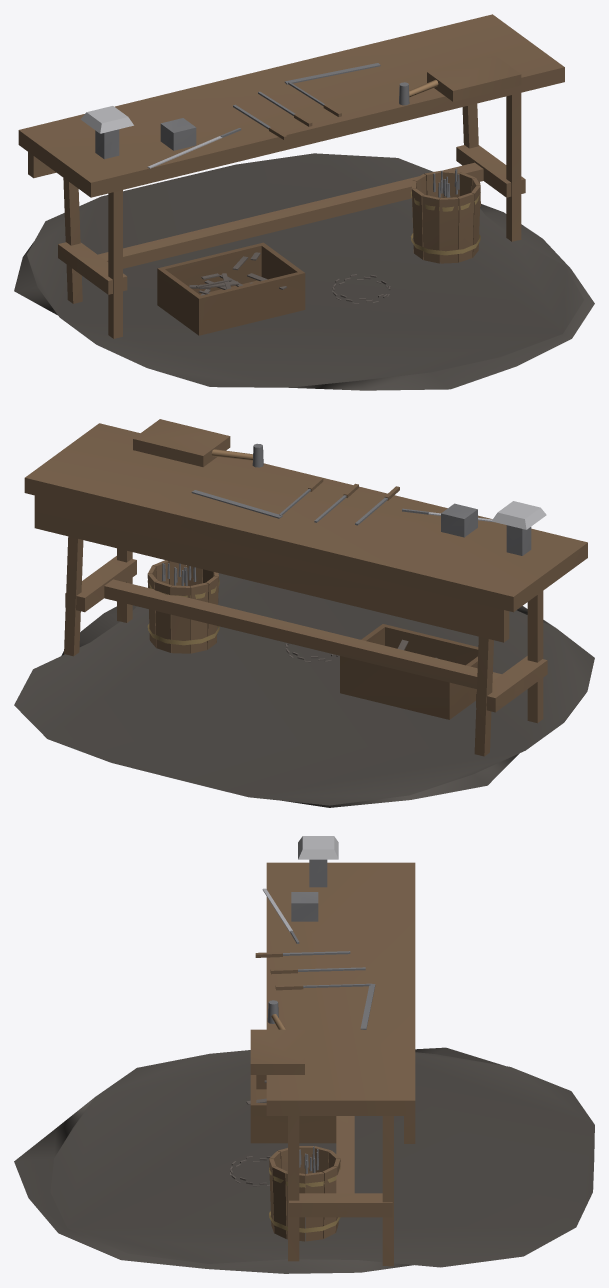
File: kalev_smithy_finishing_bench.glb
The picture shows the model from 3 angles, top to bottom: view 1: azimuth 30°, elevation 25°; view 2: azimuth 150°, elevation 25°; view 3: azimuth 270°, elevation 25°; orthographic projection. The views are drawn at different scales.
Parts seen in each view (by area): view 1: kalev_smithy_finishing_bench_ash, kalev_smithy_finishing_bench_oak, kalev_smithy_finishing_bench_iron, kalev_smithy_finishing_bench_iron_bright, kalev_smithy_finishing_bench_straw; view 2: kalev_smithy_finishing_bench_oak, kalev_smithy_finishing_bench_ash, kalev_smithy_finishing_bench_iron, kalev_smithy_finishing_bench_iron_bright; view 3: kalev_smithy_finishing_bench_ash, kalev_smithy_finishing_bench_oak, kalev_smithy_finishing_bench_iron, kalev_smithy_finishing_bench_iron_bright.
Boxes of the visible parts, left/top/right/bottom form: kalev_smithy_finishing_bench_ash: left=14, top=153, right=594, bottom=390; kalev_smithy_finishing_bench_oak: left=18, top=14, right=564, bottom=338; kalev_smithy_finishing_bench_iron: left=95, top=63, right=459, bottom=303; kalev_smithy_finishing_bench_iron_bright: left=80, top=106, right=222, bottom=168; kalev_smithy_finishing_bench_straw: left=410, top=191, right=480, bottom=255; kalev_smithy_finishing_bench_oak: left=24, top=419, right=587, bottom=756; kalev_smithy_finishing_bench_ash: left=14, top=573, right=594, bottom=807; kalev_smithy_finishing_bench_iron: left=162, top=443, right=531, bottom=662; kalev_smithy_finishing_bench_iron_bright: left=428, top=501, right=546, bottom=529; kalev_smithy_finishing_bench_ash: left=14, top=1047, right=594, bottom=1273; kalev_smithy_finishing_bench_oak: left=250, top=862, right=415, bottom=1266; kalev_smithy_finishing_bench_iron: left=230, top=859, right=375, bottom=1186; kalev_smithy_finishing_bench_iron_bright: left=262, top=836, right=338, bottom=931.
Size of the model in its own units: 2.5 by 1.08 by 2.58.
